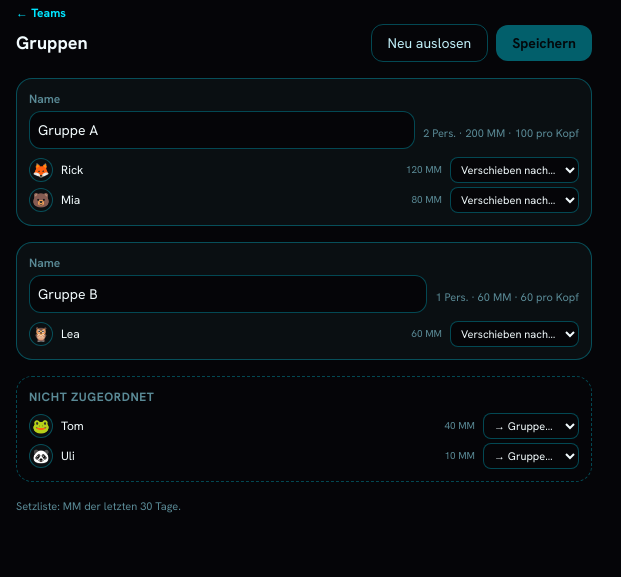
GroupEditor › warns when group sizes differ by more than one
Expected: the field showing "Gruppe A" in the row of "200" is shown, [29,111,415,149]
Expected: the text "ungleich groß" is not shown
Select "→ Gruppe A" in the dropdown named "Tom verschieben" at (531, 426), box [483,413,579,439]
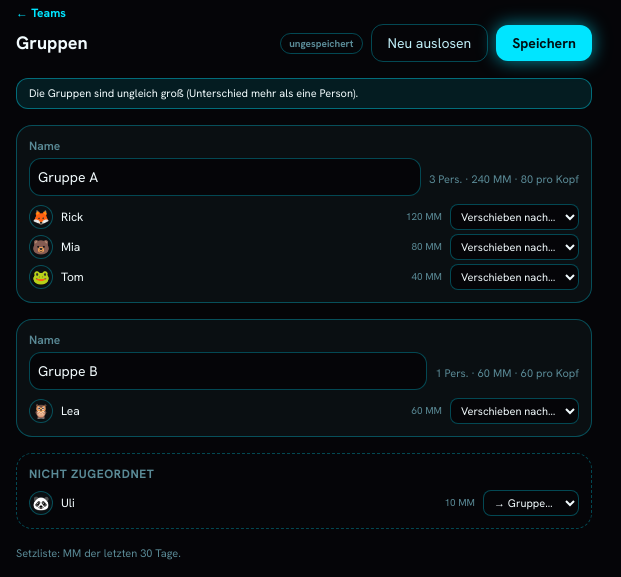
Expected: the text "ungleich groß" is shown, [29,86,358,100]
